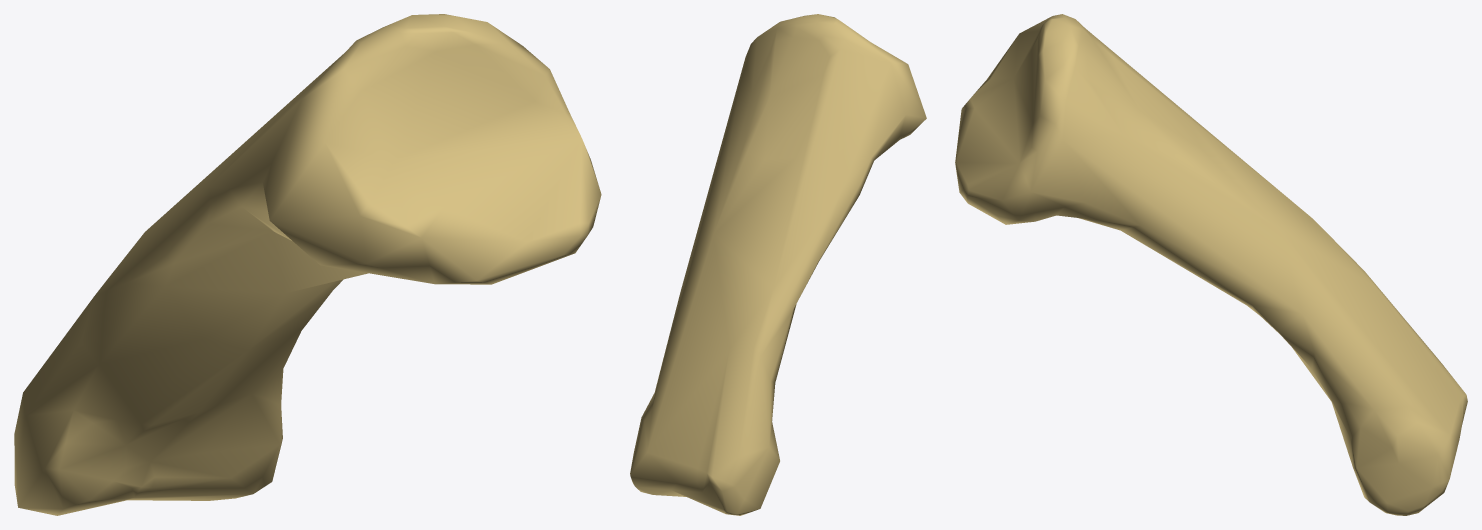
3 renders of one model, left to right at view 1: azimuth 30°, elevation 25°; view 2: azimuth 150°, elevation 25°; view 3: azimuth 270°, elevation 25°, orthographic. The views are drawn at different scales.
Parts seen in each view (by area): view 1: 右侧第四指中节指骨; view 2: 右侧第四指中节指骨; view 3: 右侧第四指中节指骨.
Part boxes in pixels (x1,y1,x2,y2): 右侧第四指中节指骨: [14, 14, 601, 515]; 右侧第四指中节指骨: [630, 14, 926, 515]; 右侧第四指中节指骨: [955, 14, 1467, 515].
Bounding box in the file's own units: 0.0185 × 0.0369 × 0.0366.
